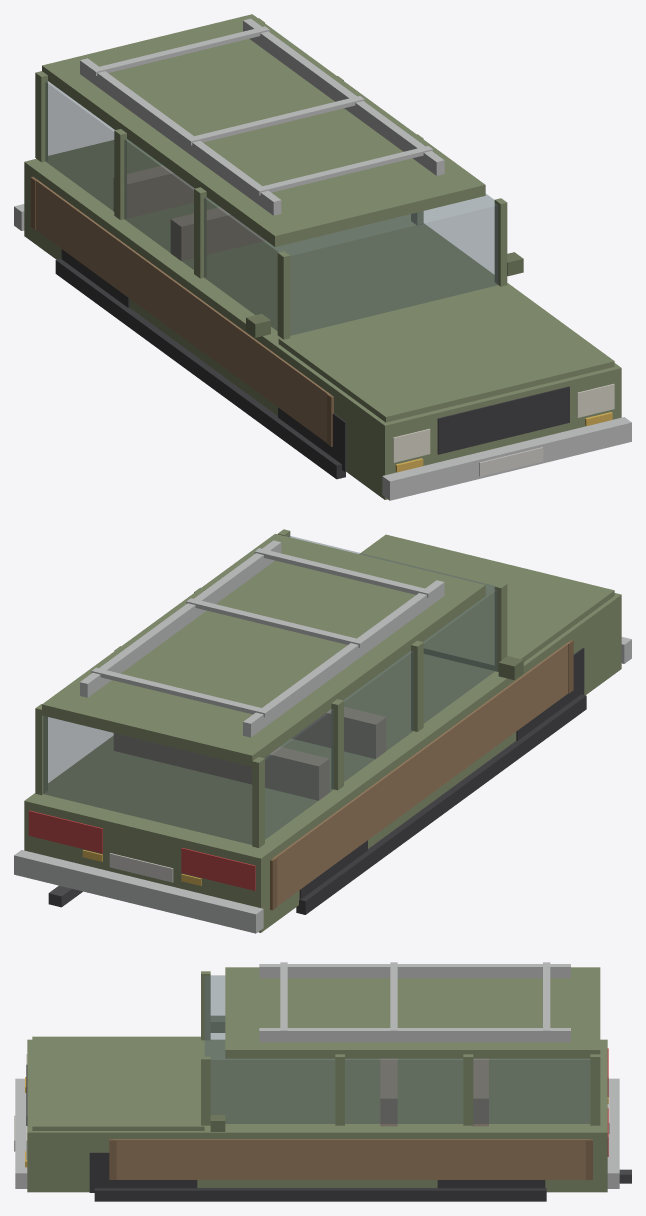
Rendered from wagon_body.glb.
The picture shows the model from 3 angles, top to bottom: view 1: azimuth 30°, elevation 25°; view 2: azimuth 150°, elevation 25°; view 3: azimuth 270°, elevation 25°; orthographic projection. The views are drawn at different scales.
Parts seen in each view (by area): view 1: verda_familio; view 2: verda_familio; view 3: verda_familio.
Boxes of the visible parts, box(x1,y1,x2,y2) form: verda_familio: box(14, 14, 631, 500); verda_familio: box(14, 529, 631, 933); verda_familio: box(14, 962, 631, 1201).
Bounding box in the file's own units: 2.04 × 1.41 × 5.06.
